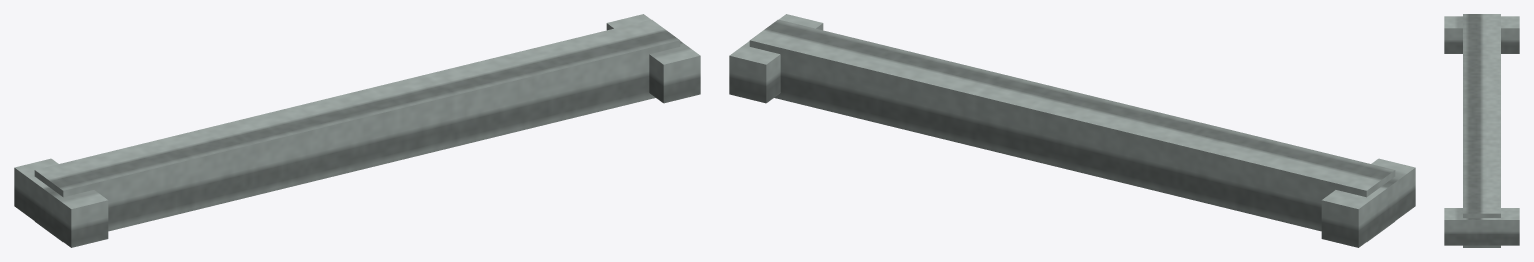
Rendered from towel_rack.glb.
3 views of the same model, side by side, from view 1: azimuth 30°, elevation 25°; view 2: azimuth 150°, elevation 25°; view 3: azimuth 270°, elevation 25° (orthographic). The views are drawn at different scales.
Visible parts, largest first — view 1: towel_rack-col; view 2: towel_rack-col; view 3: towel_rack-col.
Part boxes in pixels (x1,y1,x2,y2): towel_rack-col: (14,14,700,247); towel_rack-col: (729,14,1415,247); towel_rack-col: (1444,14,1519,247).
Bounding box in the file's own units: 0.51 × 0.04 × 0.08.
Materials: 1 (1 with a texture image).
